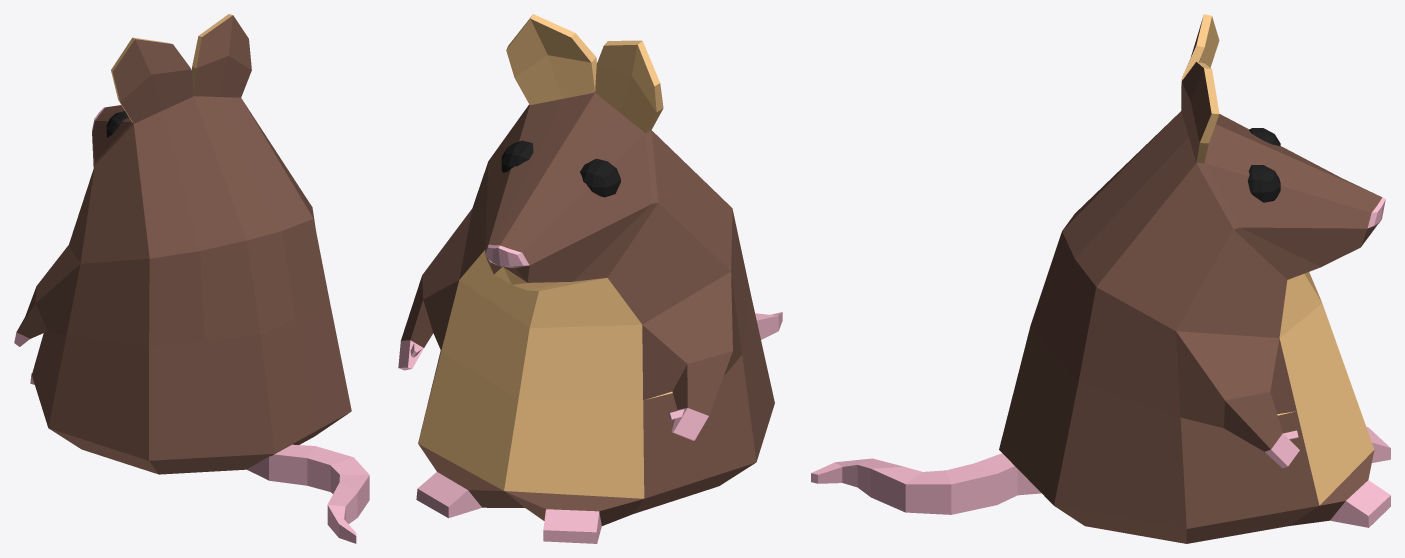
Rendered from Hamster_01.obj.
3 renders of one model, left to right at view 1: azimuth 30°, elevation 25°; view 2: azimuth 150°, elevation 25°; view 3: azimuth 270°, elevation 25°, orthographic. The views are drawn at different scales.
Visible parts, largest first — view 1: Cube.026_Cube.024; view 2: Cube.026_Cube.024; view 3: Cube.026_Cube.024.
Boxes of the visible parts, x1,y1,x2,y2 form: Cube.026_Cube.024: (14,14,369,543); Cube.026_Cube.024: (398,14,782,543); Cube.026_Cube.024: (811,14,1390,543).
Size of the model in its own units: 6.23 by 8.1 by 9.63.
